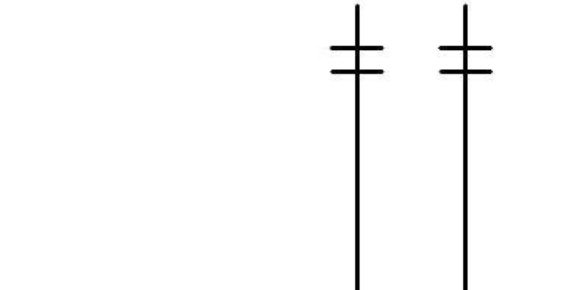115_buffer: (329, 45, 385, 74), (438, 46, 493, 74)
